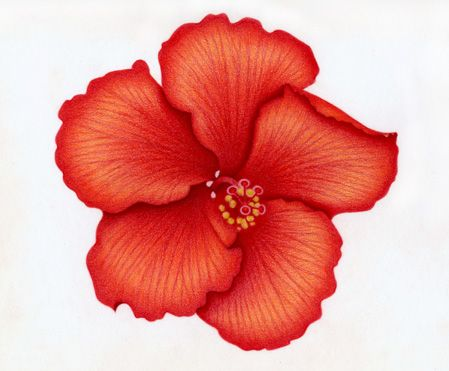Hibiscus: (40, 20, 403, 359)
